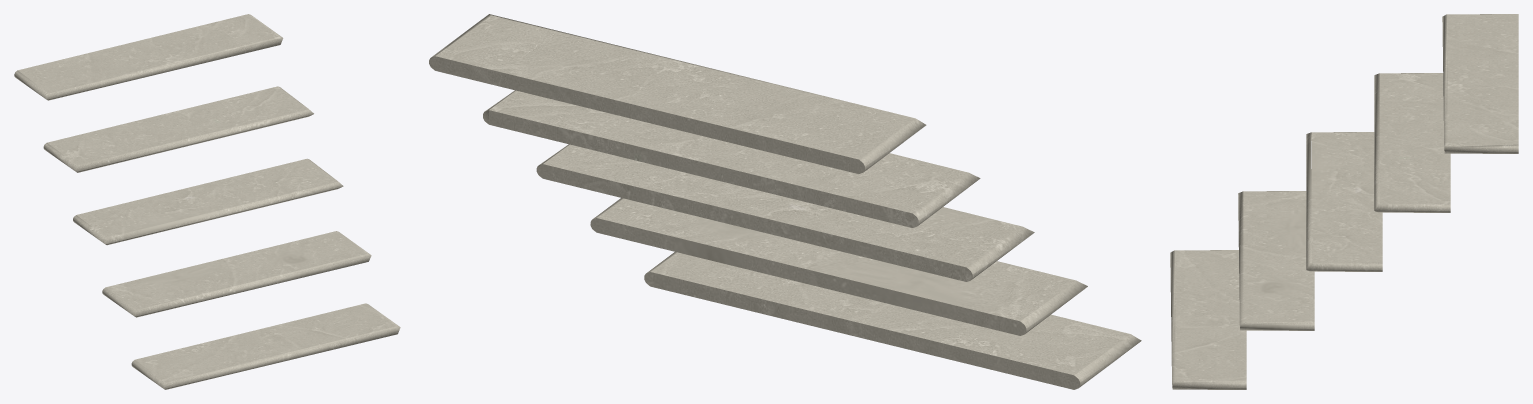
File: 62a551cf-103f-453e-91bd-e190badc9f62.glb
The picture shows the model from 3 angles, left to right: view 1: azimuth 30°, elevation 25°; view 2: azimuth 150°, elevation 25°; view 3: azimuth 270°, elevation 25°; orthographic projection. The views are drawn at different scales.
Parts seen in each view (by area): view 1: AlabasterStairs.003; view 2: AlabasterStairs.003; view 3: AlabasterStairs.003.
Part boxes in pixels (left/top/right/bottom): AlabasterStairs.003: left=14, top=14, right=400, bottom=389; AlabasterStairs.003: left=429, top=14, right=1141, bottom=389; AlabasterStairs.003: left=1170, top=14, right=1518, bottom=389.
Size of what is drawn, in the model's own units: 1.4 by 1.19 by 1.53.
1 material, 1 textured.
